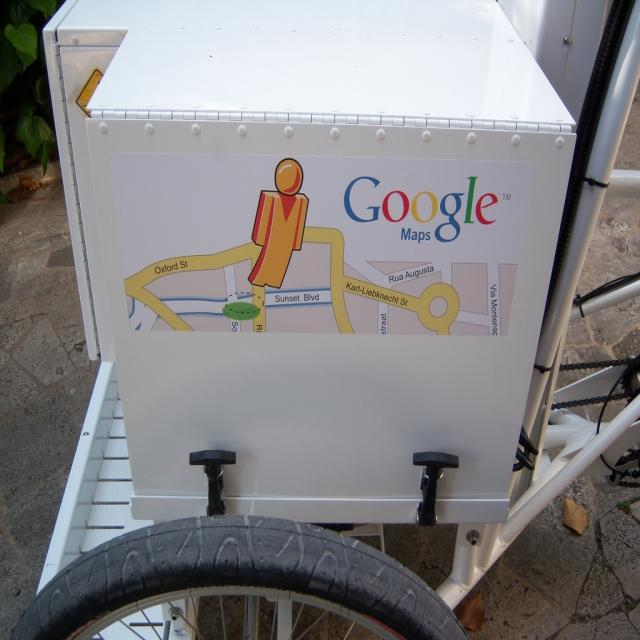google: (342, 172, 501, 246)
